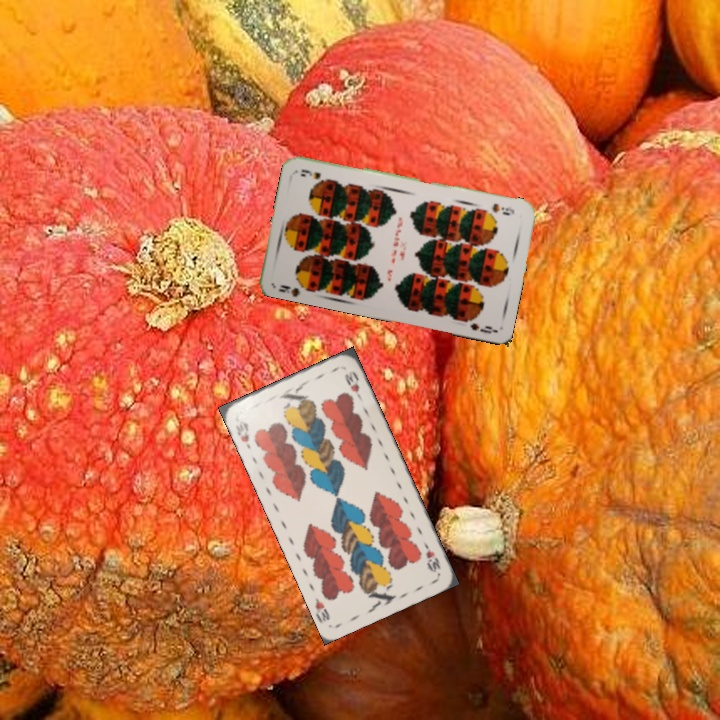H10: (419, 538, 443, 575), (232, 417, 253, 452)
S9: (274, 278, 313, 298), (488, 199, 517, 218)
